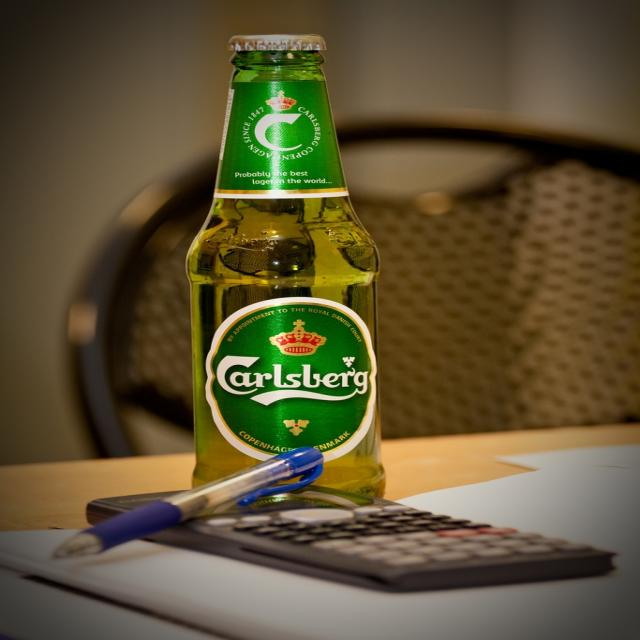carlsberg: (213, 303, 377, 457), (241, 89, 330, 164)
